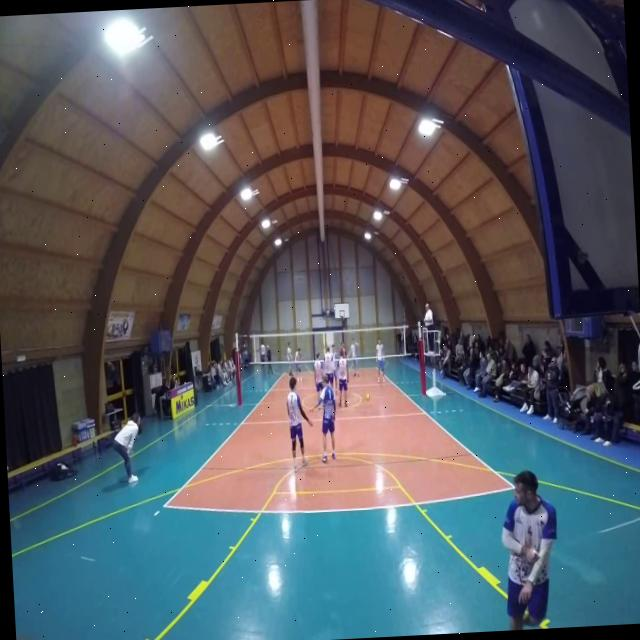Volleyball: (366, 392, 370, 402)
